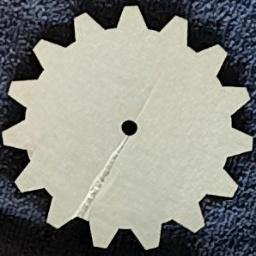Crack: (64, 133, 135, 223)
